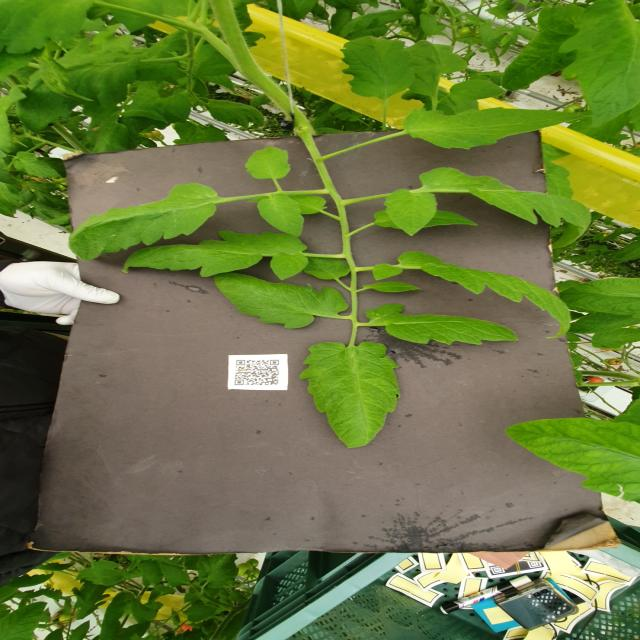Healthy Leaf: (373, 250, 574, 341), (417, 167, 592, 250), (503, 417, 640, 505), (68, 183, 220, 261), (557, 1, 640, 129), (303, 342, 400, 449), (121, 230, 312, 281), (400, 106, 596, 152), (212, 273, 353, 331), (365, 304, 519, 347), (338, 37, 414, 100), (560, 278, 640, 317), (384, 189, 439, 238), (255, 197, 306, 240), (245, 146, 293, 185), (450, 80, 506, 102), (364, 282, 424, 294)
